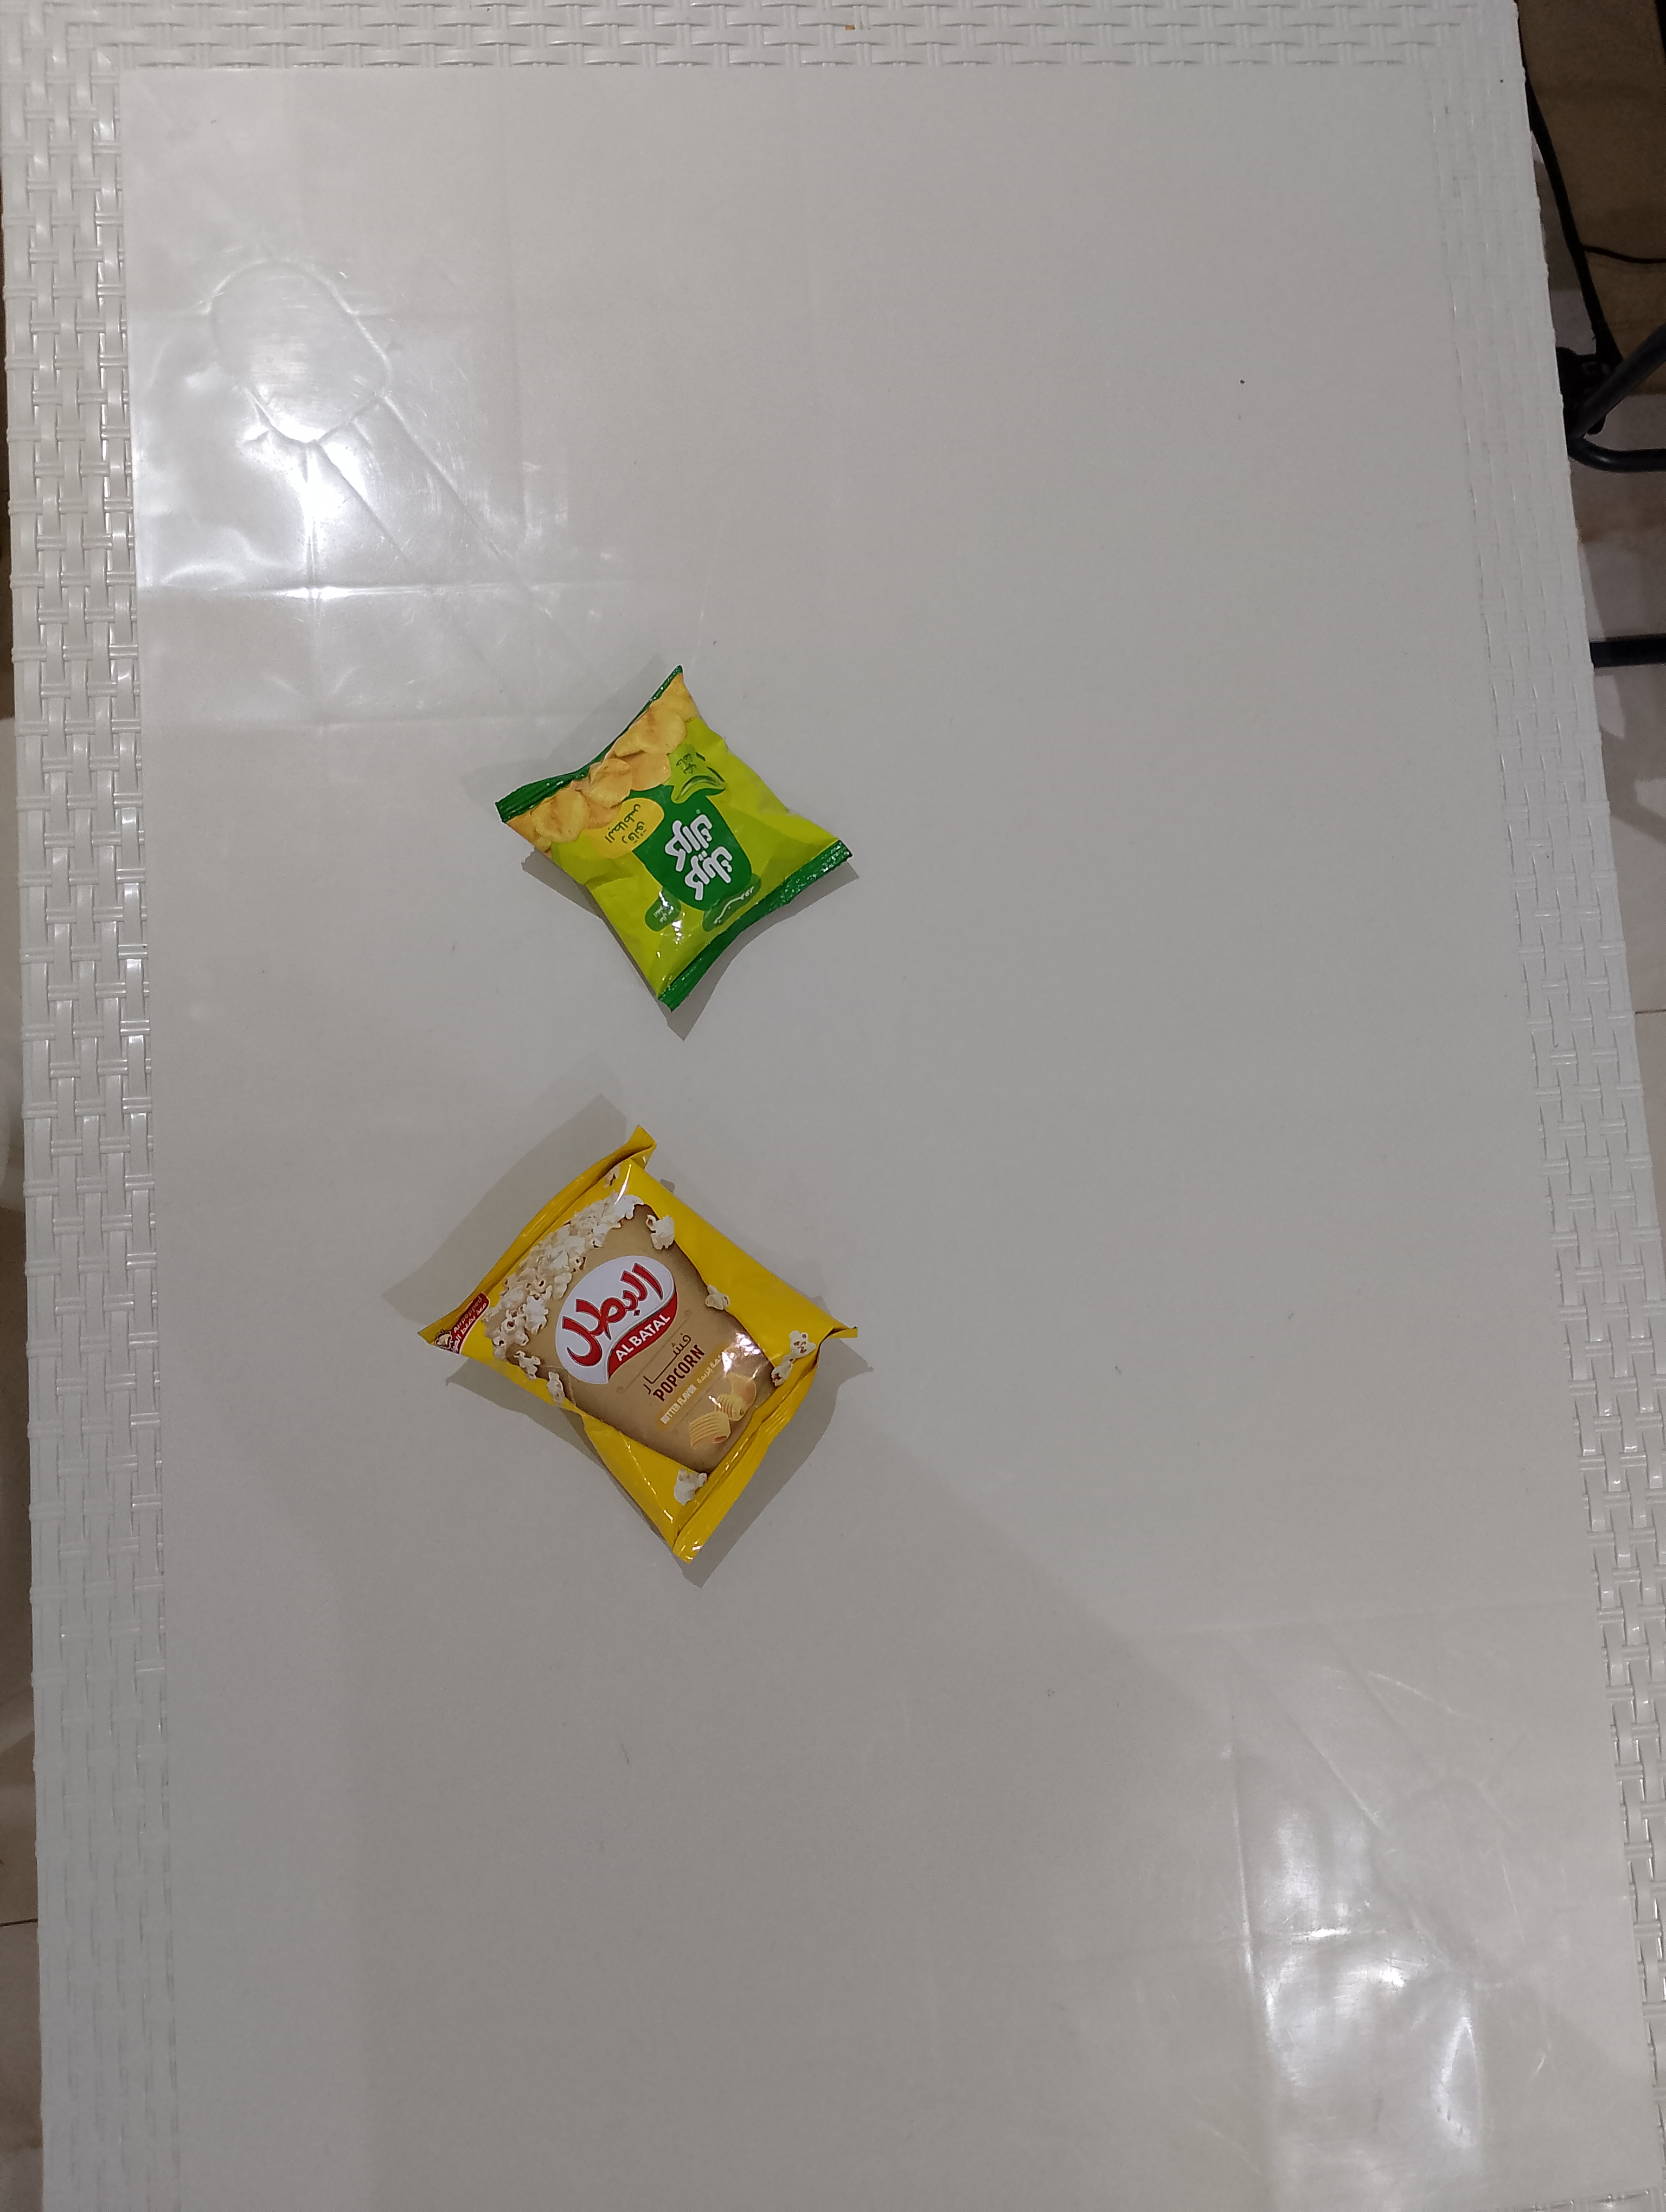albatal_popcorn_butter_flavor: (415, 1123, 858, 1567)
cric_crac_special_flavour: (494, 664, 854, 1014)
